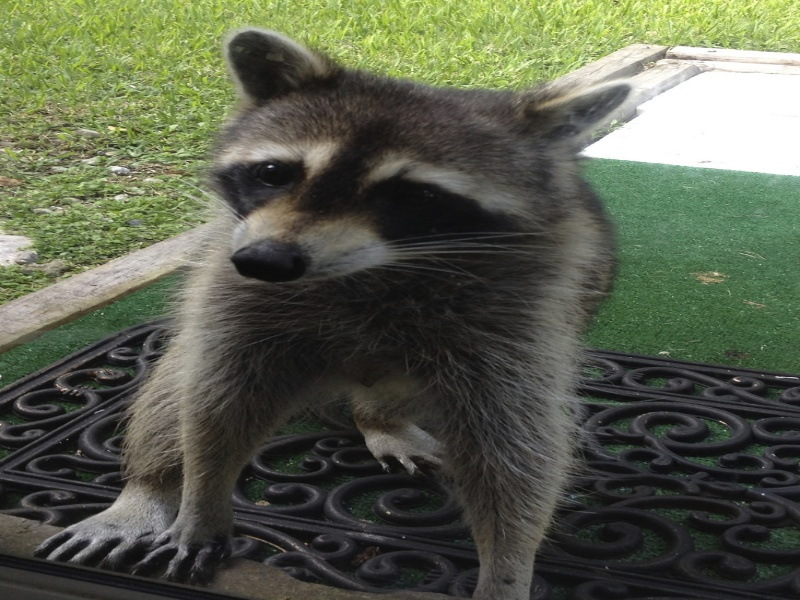raccoon: (36, 26, 642, 579)
